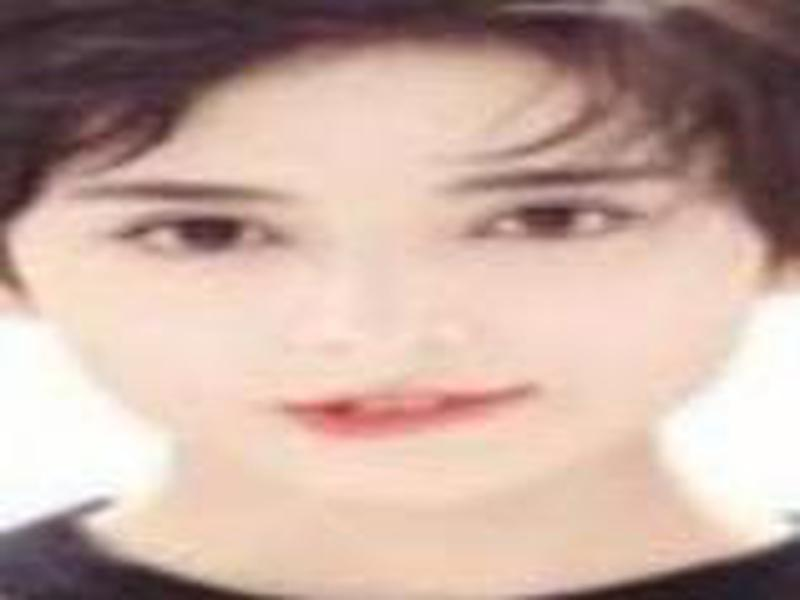without_mask: (25, 42, 749, 519)
